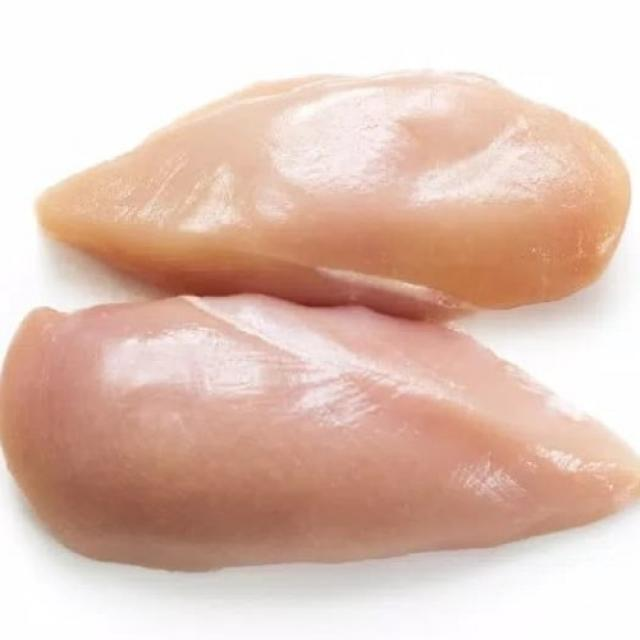Chicken: (7, 313, 629, 568), (14, 70, 636, 292)
